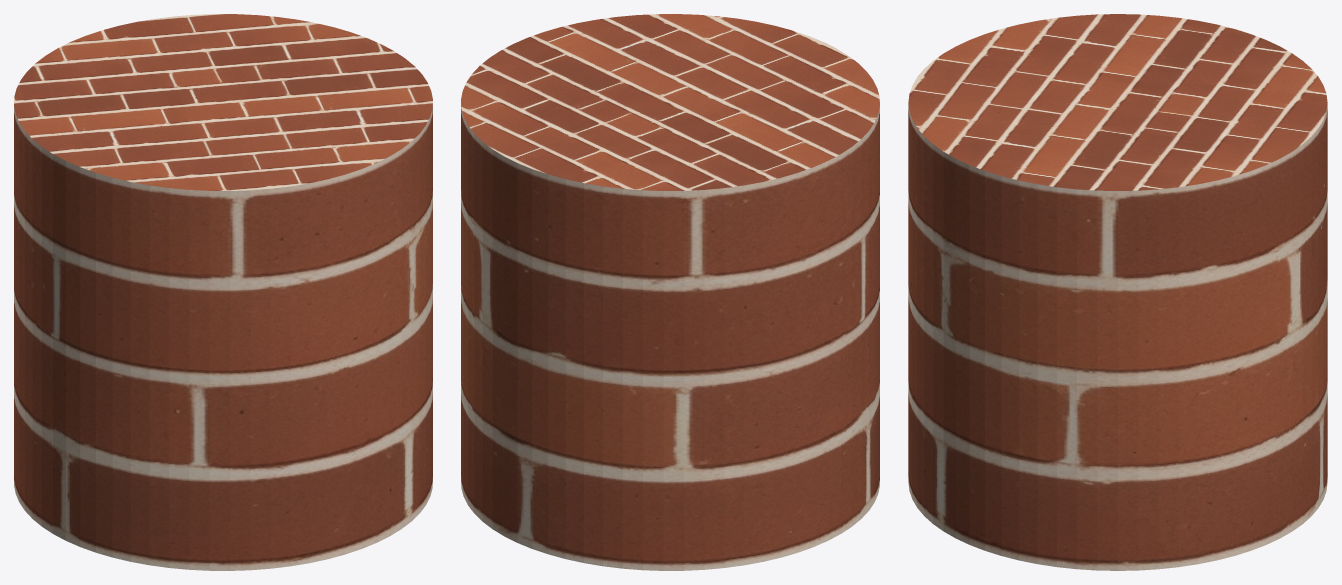
The picture shows the model from 3 angles, left to right: view 1: azimuth 30°, elevation 25°; view 2: azimuth 150°, elevation 25°; view 3: azimuth 270°, elevation 25°; orthographic projection.
Visible parts, largest first — view 1: Cylinder; view 2: Cylinder; view 3: Cylinder.
Part boxes in pixels (x1=…): Cylinder: x1=14, y1=14, x2=432, y2=570; Cylinder: x1=461, y1=14, x2=879, y2=570; Cylinder: x1=908, y1=14, x2=1327, y2=570.
Bounding box in the file's own units: 2 × 2 × 2.
1 material, 1 textured.
